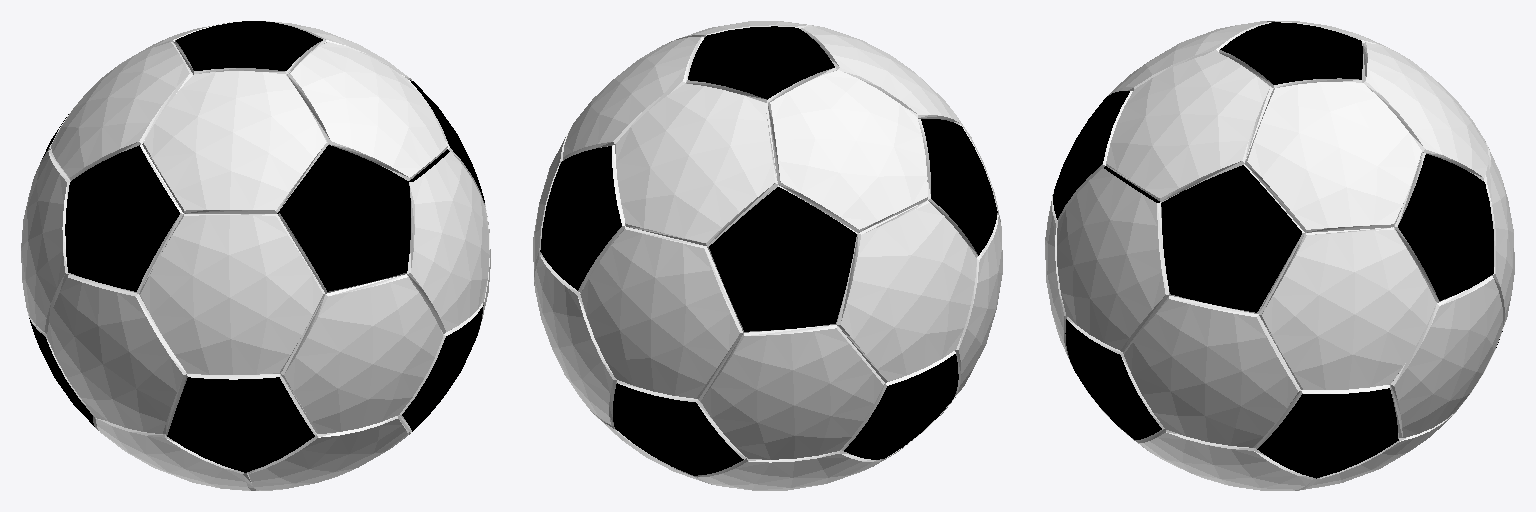
The model's file is Soccerball.obj.
The picture shows the model from 3 angles: view 1: azimuth 30°, elevation 25°; view 2: azimuth 150°, elevation 25°; view 3: azimuth 270°, elevation 25°; orthographic projection.
Parts seen in each view (by area): view 1: Hedra011, Hedra013; view 2: Hedra011, Hedra013; view 3: Hedra011, Hedra013.
Boxes of the visible parts, x1,y1,x2,y2 form: Hedra011: [21, 21, 490, 490]; Hedra013: [29, 21, 484, 472]; Hedra011: [533, 21, 1002, 490]; Hedra013: [540, 26, 997, 475]; Hedra011: [1045, 21, 1514, 490]; Hedra013: [1053, 22, 1502, 478].
Size of the model in its own units: 24.3 by 24.22 by 24.23.